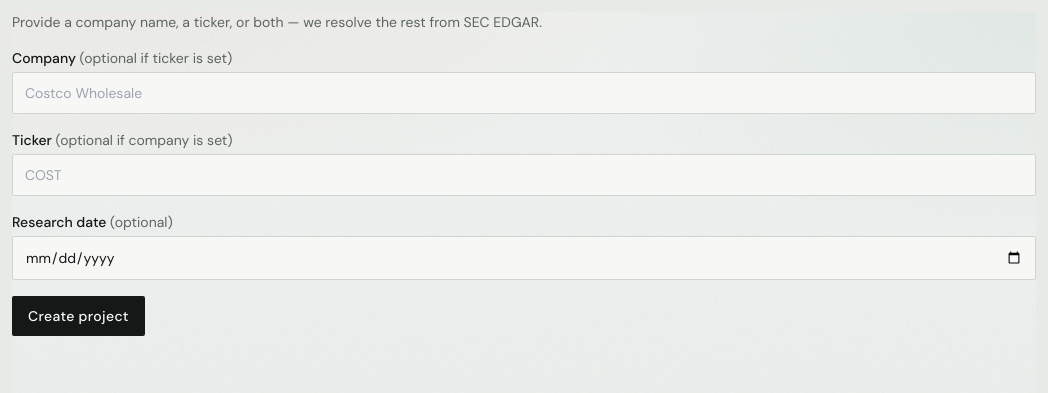
Test case: CreateProjectForm › shows an inline error when neither company nor ticker is provided
This screenshot has width=1048, height=393.
Click the button "Create project". click: [78, 316]
box: [12,296,145,336]
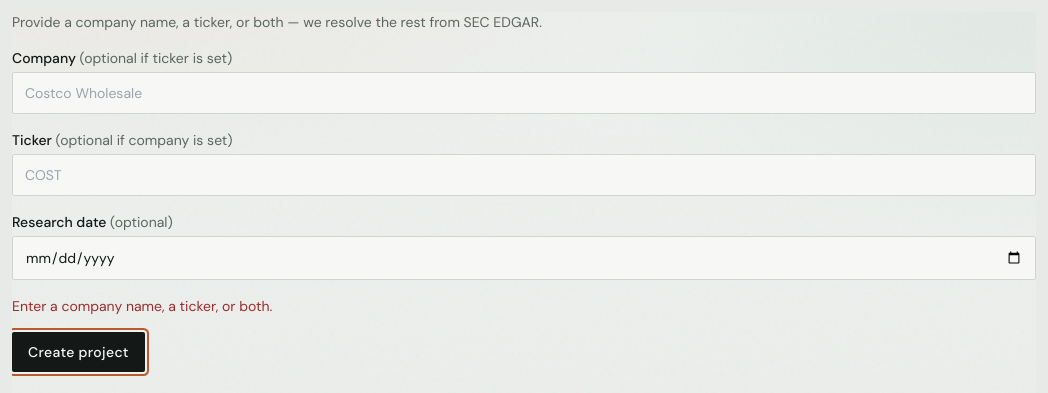
Check: the message shows "company name, a ticker, or both", box [12,297,272,315]
